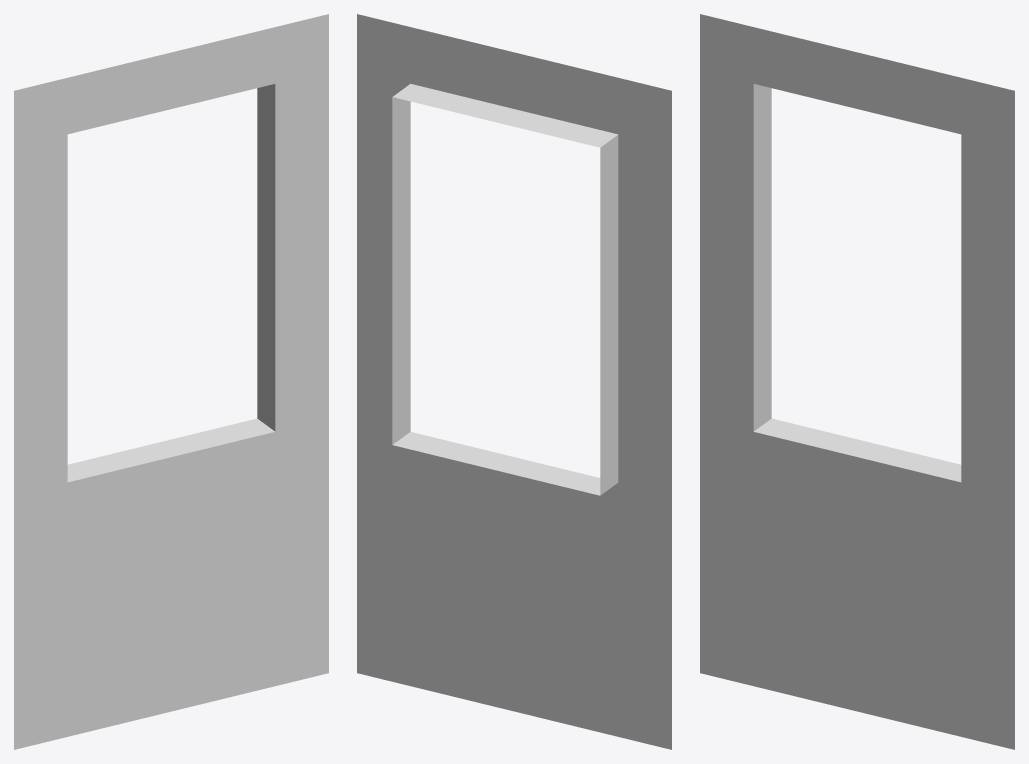
Rendered from Ext-PlainSmallWindowframe.fbx.
3 views of the same model, side by side, from view 1: azimuth 30°, elevation 25°; view 2: azimuth 150°, elevation 25°; view 3: azimuth 330°, elevation 25° (orthographic).
Visible parts, largest first — view 1: Ext-PlainSmallWindowframe; view 2: Ext-PlainSmallWindowframe; view 3: Ext-PlainSmallWindowframe.
Boxes of the visible parts, box(x1,y1,x2,y2) form: Ext-PlainSmallWindowframe: box(14, 14, 328, 749); Ext-PlainSmallWindowframe: box(357, 14, 671, 749); Ext-PlainSmallWindowframe: box(700, 14, 1014, 749).
Bounding box in the file's own units: 100 × 200 × 10.
